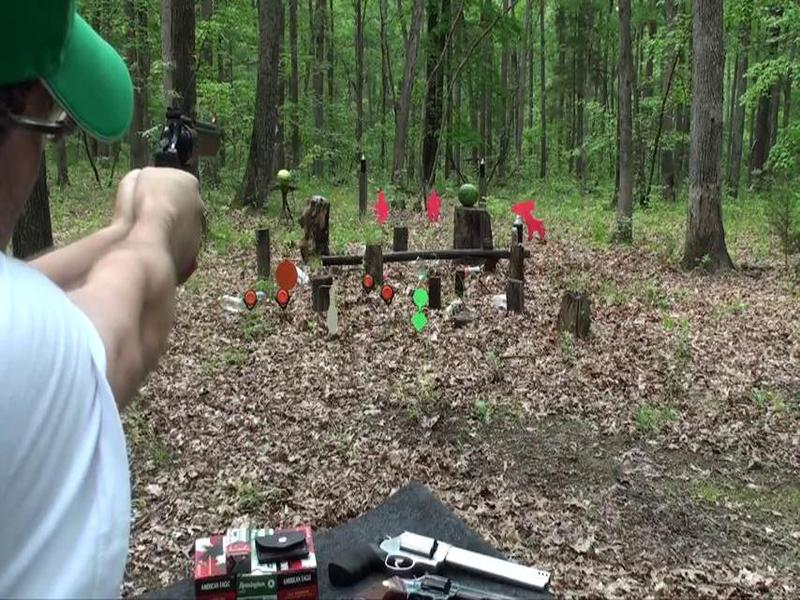Revolver: (141, 98, 234, 203)
